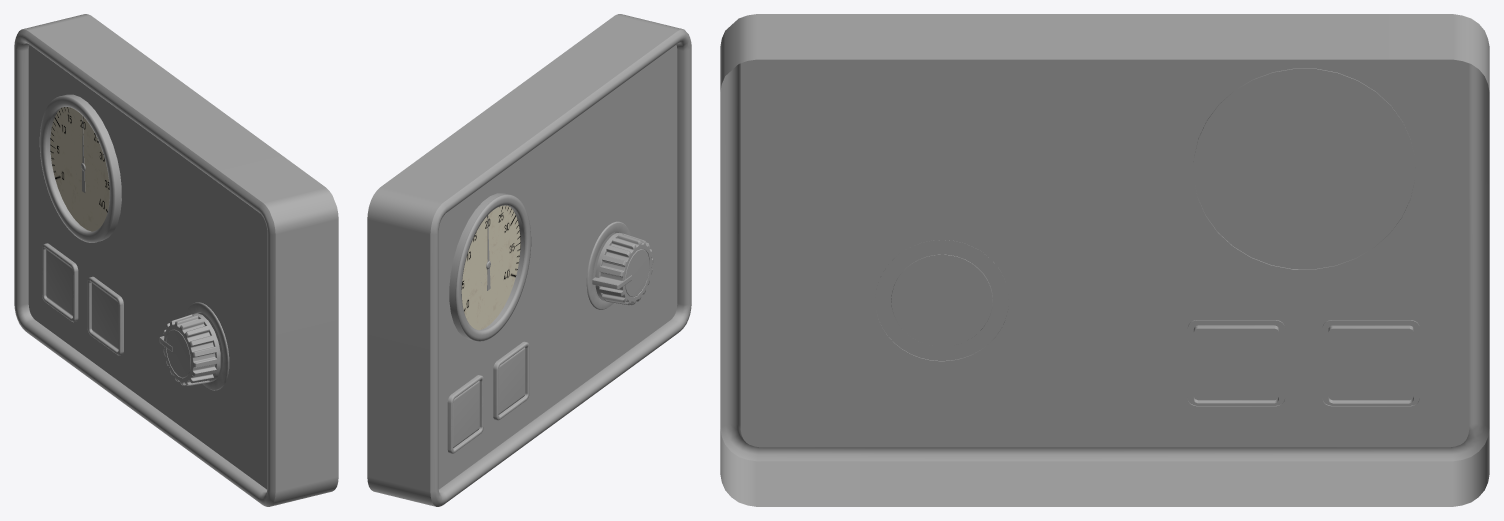
The model's file is ToSpaceButton.fbx.
3 views of the same model, side by side, from view 1: azimuth 30°, elevation 25°; view 2: azimuth 150°, elevation 25°; view 3: azimuth 270°, elevation 25° (orthographic). The views are drawn at different scales.
Visible parts, largest first — view 1: Base, OxygenIndicator, Tumbler; view 2: Base, OxygenIndicator, Tumbler; view 3: Base.
Boxes of the visible parts, left/top/right/bottom form: Base: left=14, top=14, right=338, bottom=506; OxygenIndicator: left=39, top=94, right=121, bottom=242; Tumbler: left=159, top=313, right=220, bottom=385; Base: left=367, top=14, right=691, bottom=506; OxygenIndicator: left=449, top=193, right=531, bottom=341; Tumbler: left=592, top=232, right=653, bottom=305; Base: left=720, top=14, right=1489, bottom=506.
Size of the model in its own units: 14.27 by 48.08 by 74.95.
